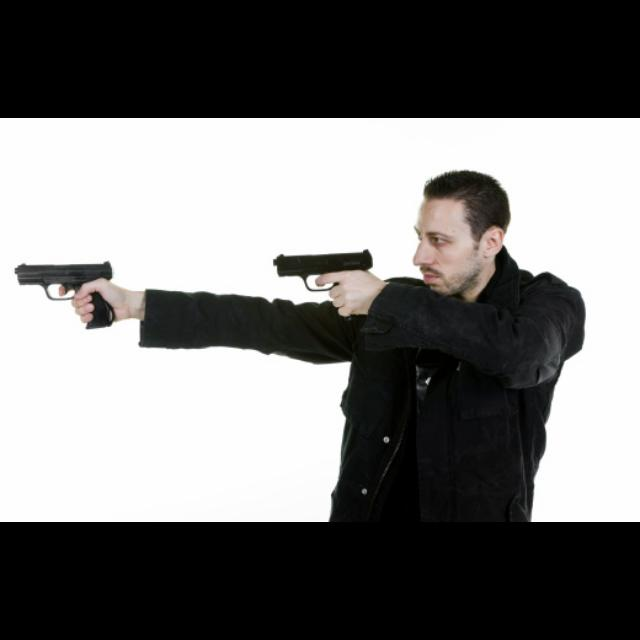handgun: (13, 258, 116, 332), (270, 246, 378, 294)
